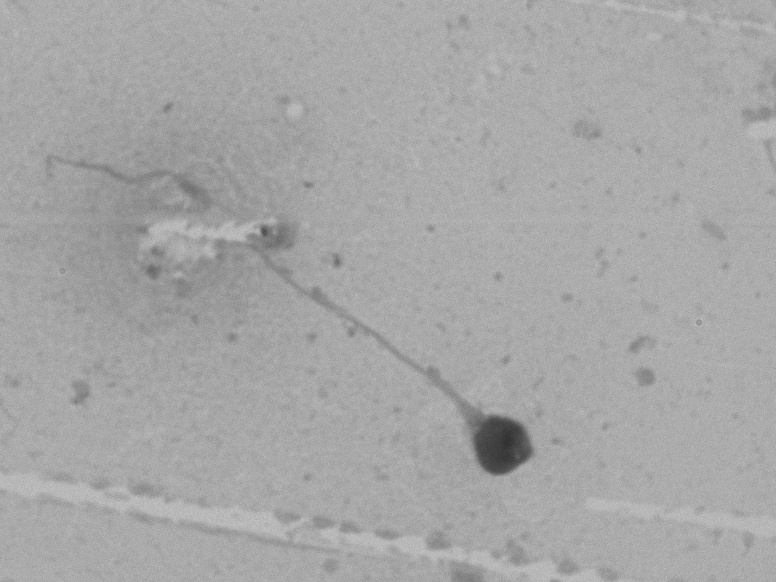Abnormal: (224, 172, 566, 490)
